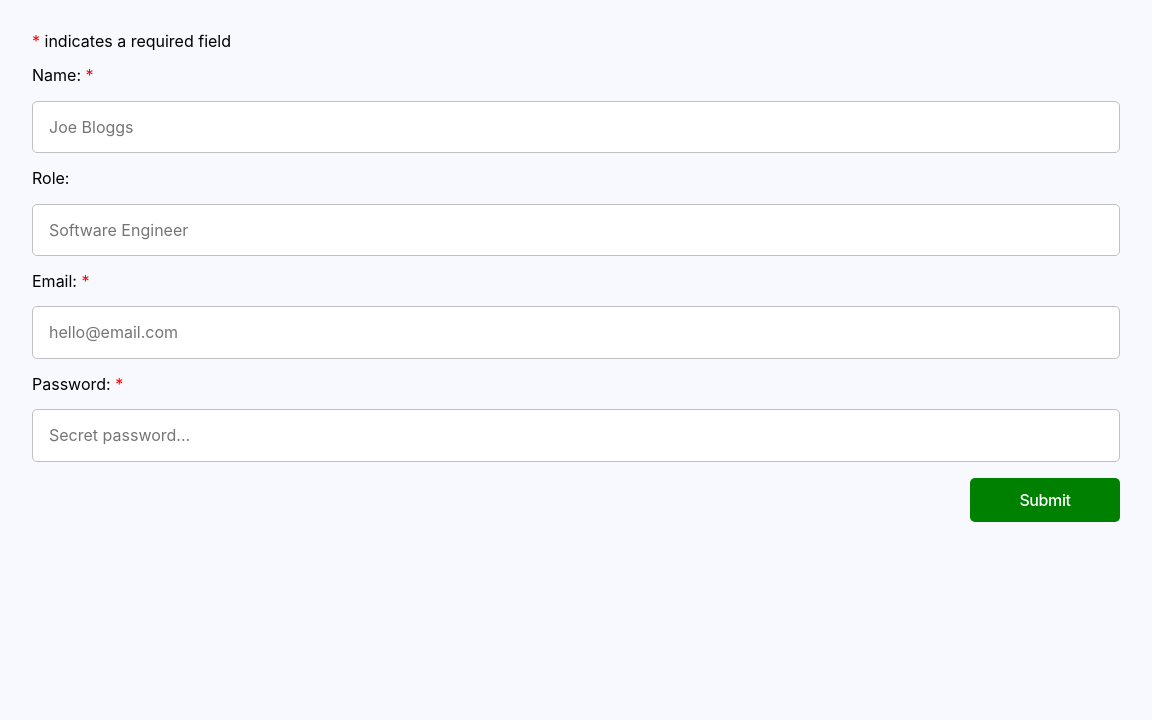
Scenario: SignUpForm component › should block progress if no name
The image size is (1152, 720).
Click the button with test id "signUpSubmitButton".
click(1045, 500)  # box x1=970 y1=478 x2=1120 y2=522
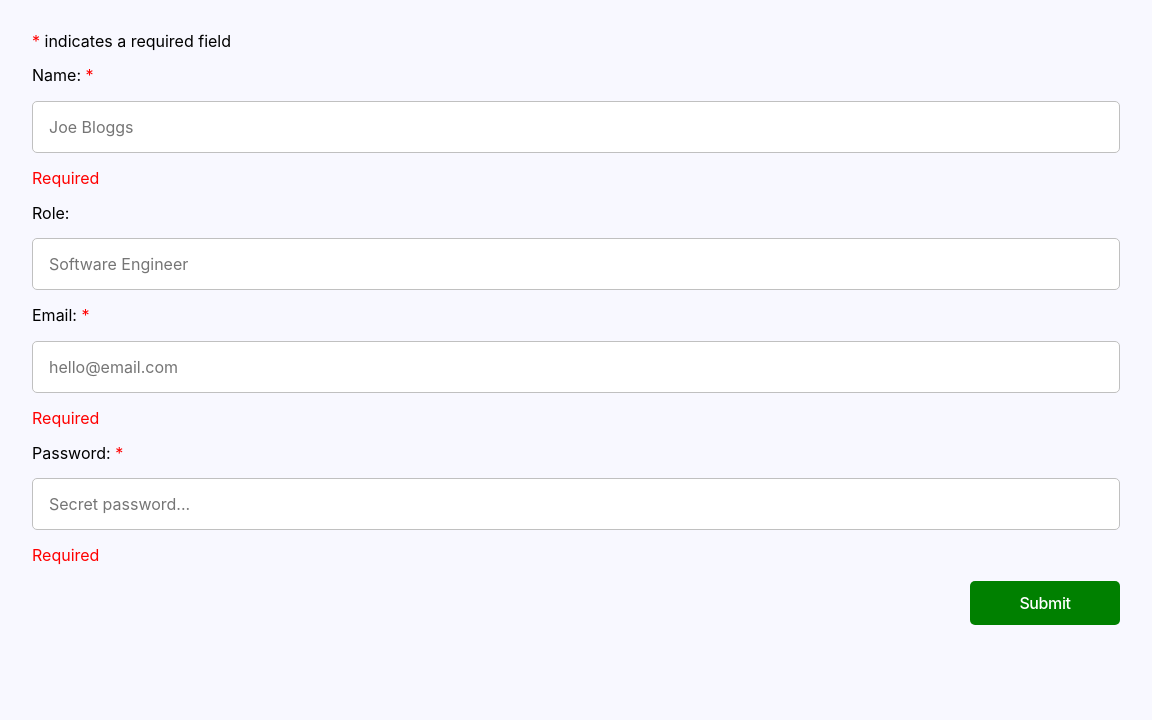
Expected: the text with test id "signUpNameError" is shown, x1=32 y1=168 x2=99 y2=188
